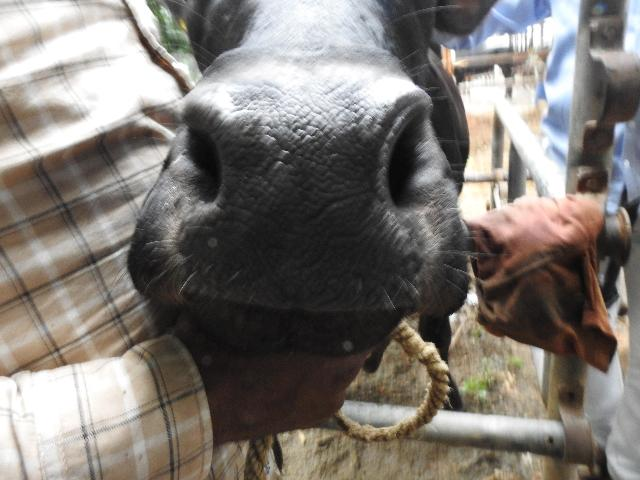Muzzle: (230, 94, 374, 302)
